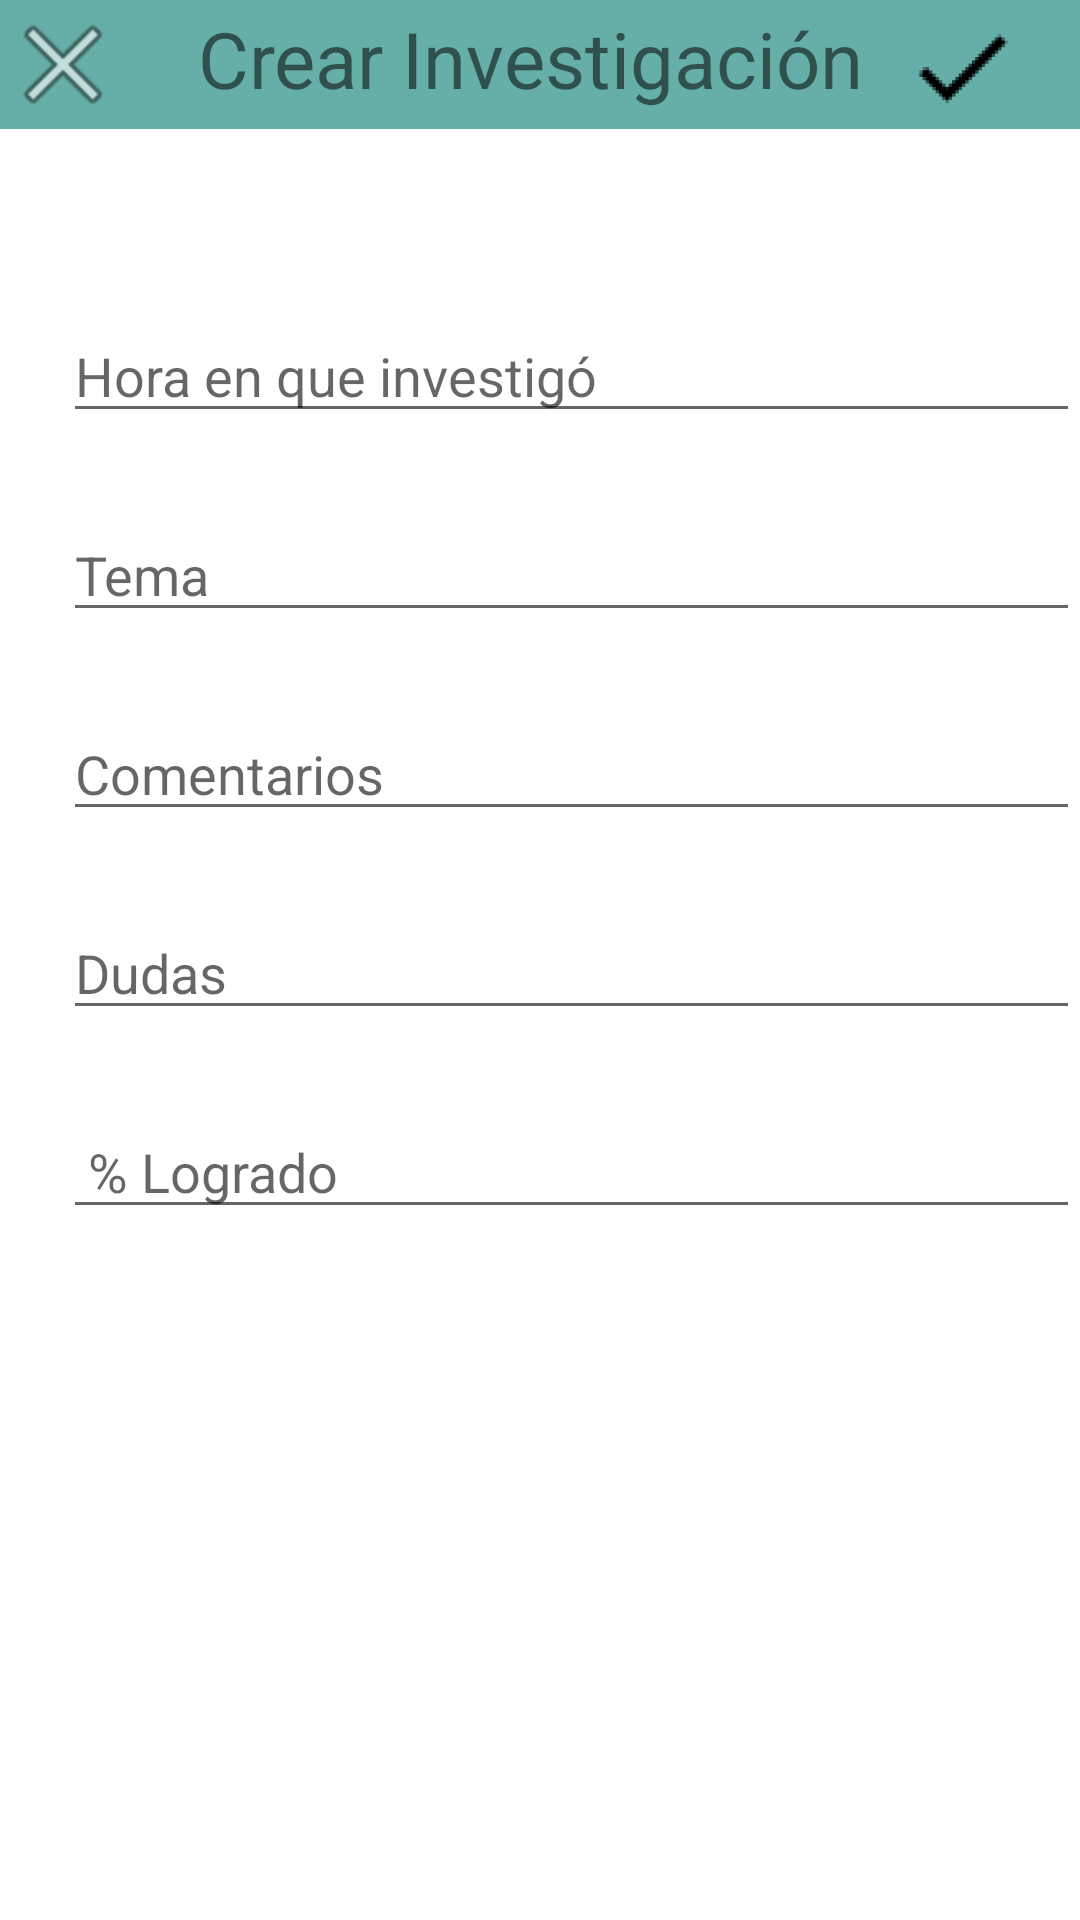

Icons on this 1080*1920 Android screen, each with its box as bbox=[x1, y1, x2, y2]:
close clear cancel: bbox=[24, 25, 102, 104]
